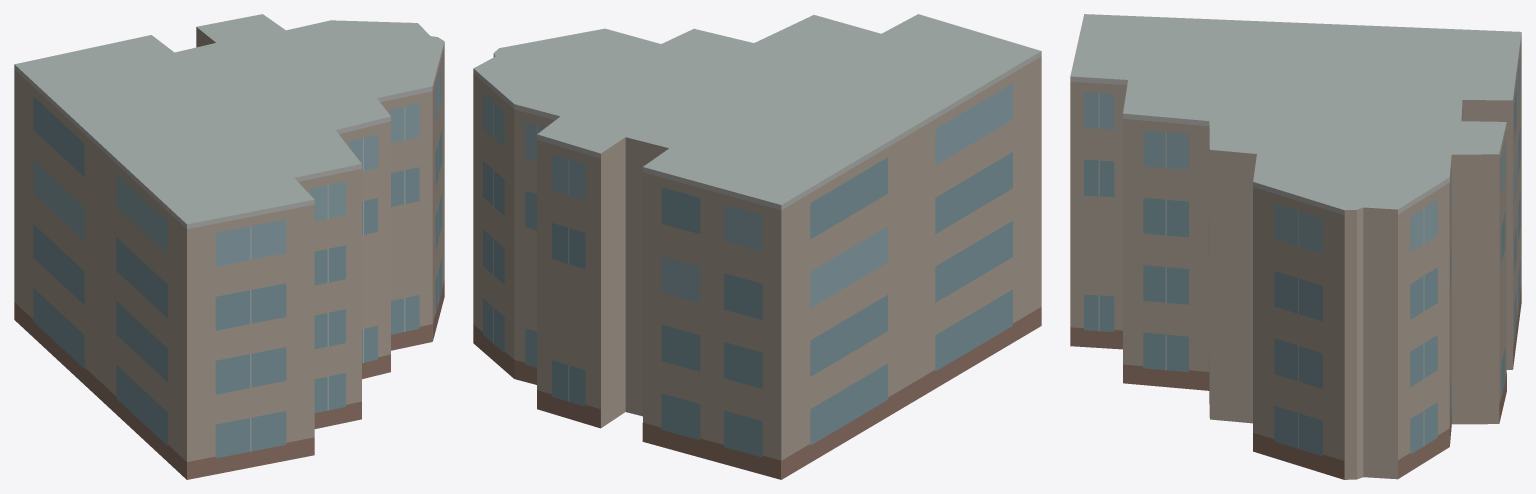
The model's file is survey-upis-32563906.glb.
3 views of the same model, side by side, from view 1: azimuth 30°, elevation 25°; view 2: azimuth 150°, elevation 25°; view 3: azimuth 270°, elevation 25° (orthographic). The views are drawn at different scales.
Visible parts, largest first — view 1: survey-upis-32563906.tmp; view 2: survey-upis-32563906.tmp; view 3: survey-upis-32563906.tmp.
Boxes of the visible parts, x1,y1,x2,y2 form: survey-upis-32563906.tmp: (14, 14, 444, 479); survey-upis-32563906.tmp: (473, 14, 1041, 479); survey-upis-32563906.tmp: (1070, 14, 1521, 479).
Size of the model in its own units: 19.98 by 12.8 by 19.42.
